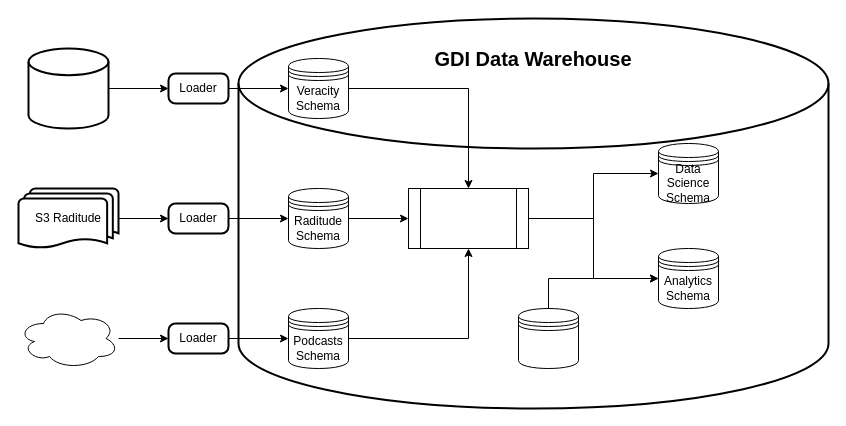
This 846x426 diagram has some shape labels left out. Here are the shapes that lost their labels. From the top down, the centre of each, then its label:
At point 68,88: "Veracity DB".
At point 468,218: "Data Warehouse Pipeline Processes".
At point 68,338: "Podcasts".
At point 548,338: "GDI Products (DEL)".
